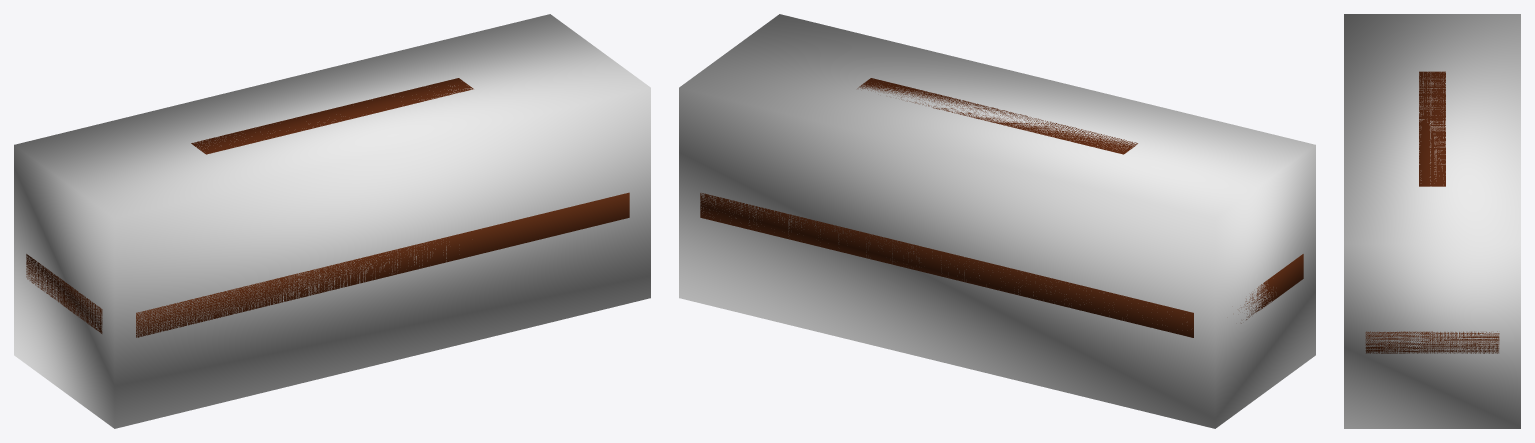
File: cepillo.glb
The picture shows the model from 3 angles, left to right: view 1: azimuth 30°, elevation 25°; view 2: azimuth 150°, elevation 25°; view 3: azimuth 270°, elevation 25°; orthographic projection. The views are drawn at different scales.
Parts seen in each view (by area): view 1: cepillo-colcaja, cepillo; view 2: cepillo-colcaja, cepillo; view 3: cepillo-colcaja, cepillo.
Boxes of the visible parts, box(x1,y1,x2,y2) form: cepillo-colcaja: box(14, 14, 650, 428); cepillo: box(26, 78, 629, 337); cepillo-colcaja: box(679, 14, 1315, 428); cepillo: box(700, 78, 1303, 337); cepillo-colcaja: box(1344, 14, 1520, 428); cepillo: box(1365, 71, 1499, 353).
Bounding box in the file's own units: 0.2 × 0.0759 × 0.065.
